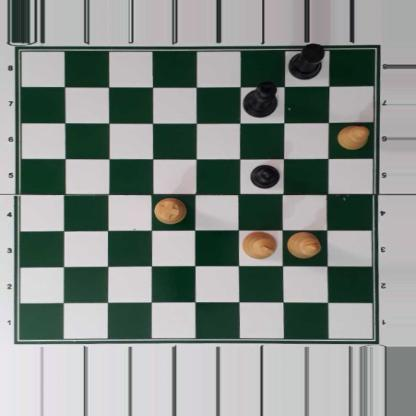black-king: (242, 80, 279, 118)
black-pawn: (250, 163, 279, 189)
black-rook: (287, 43, 327, 80)
white-bishop: (287, 231, 322, 258)
white-king: (240, 230, 278, 260)
white-pawn: (337, 124, 370, 150)
white-rook: (154, 197, 187, 225)
